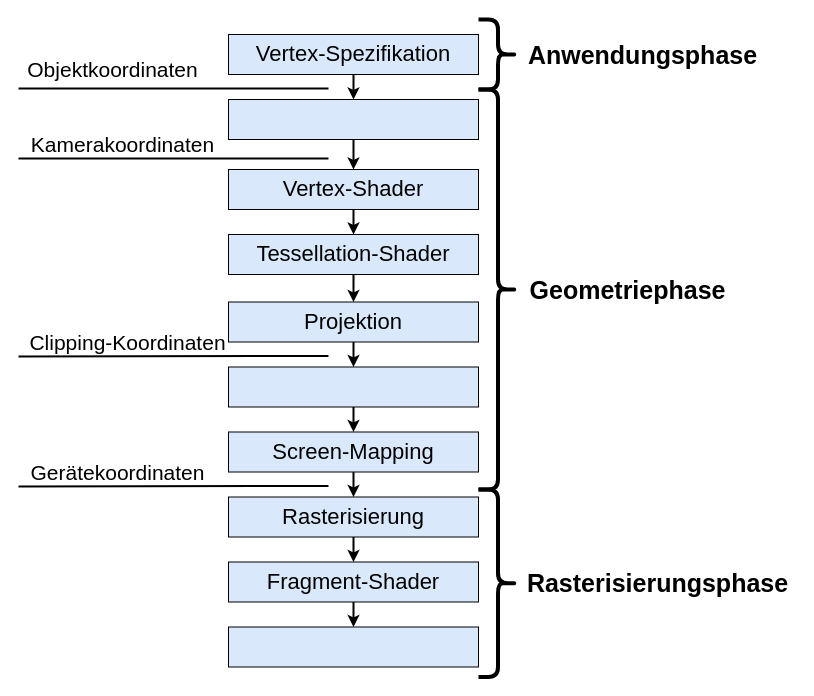
Some shapes in this 814 by 696 pixel diagram are drawn without their labels. Each missing label, with the centre of its shape:
"Clipping" goes at [353,386].
"Post-Processing" goes at [353,646].
"Szenentransformation" goes at [353,119].
